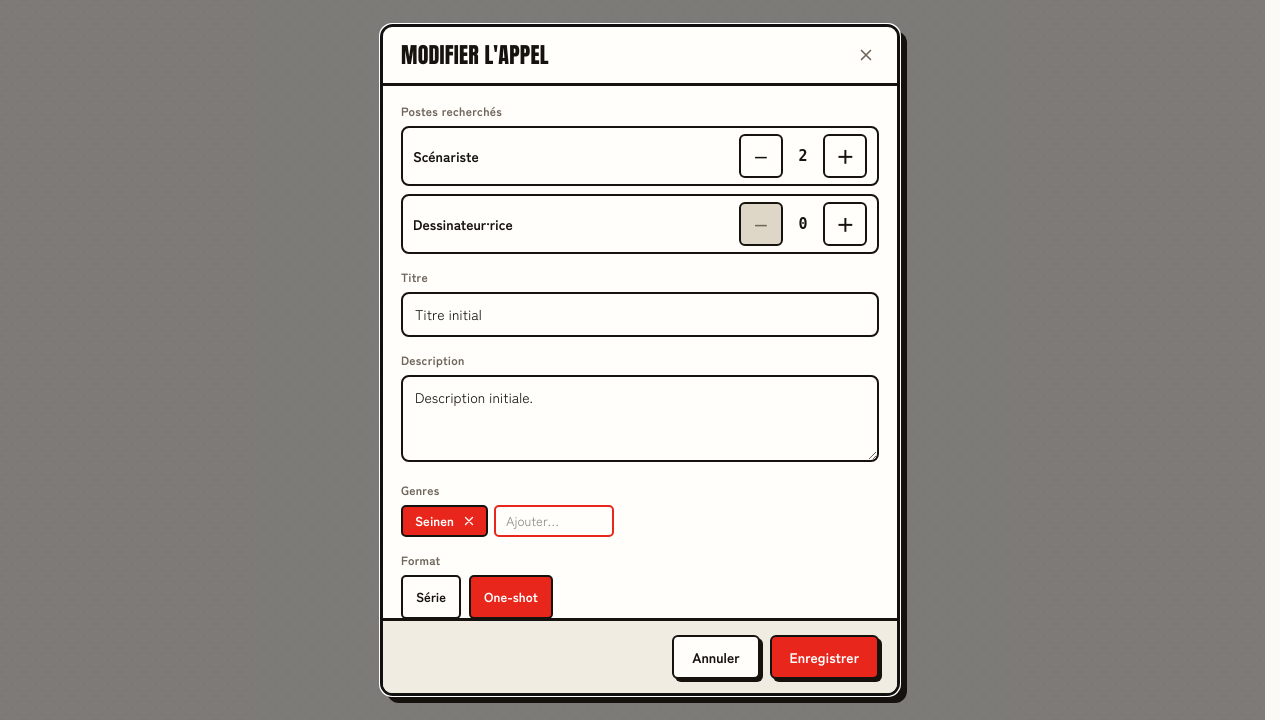
Scenario: PostCallModal › edit mode › cannot reduce a seat below its accepted floor
Click the button named "Retirer un poste Scénariste" at coordinates (761, 156), box [739,134,783,178]
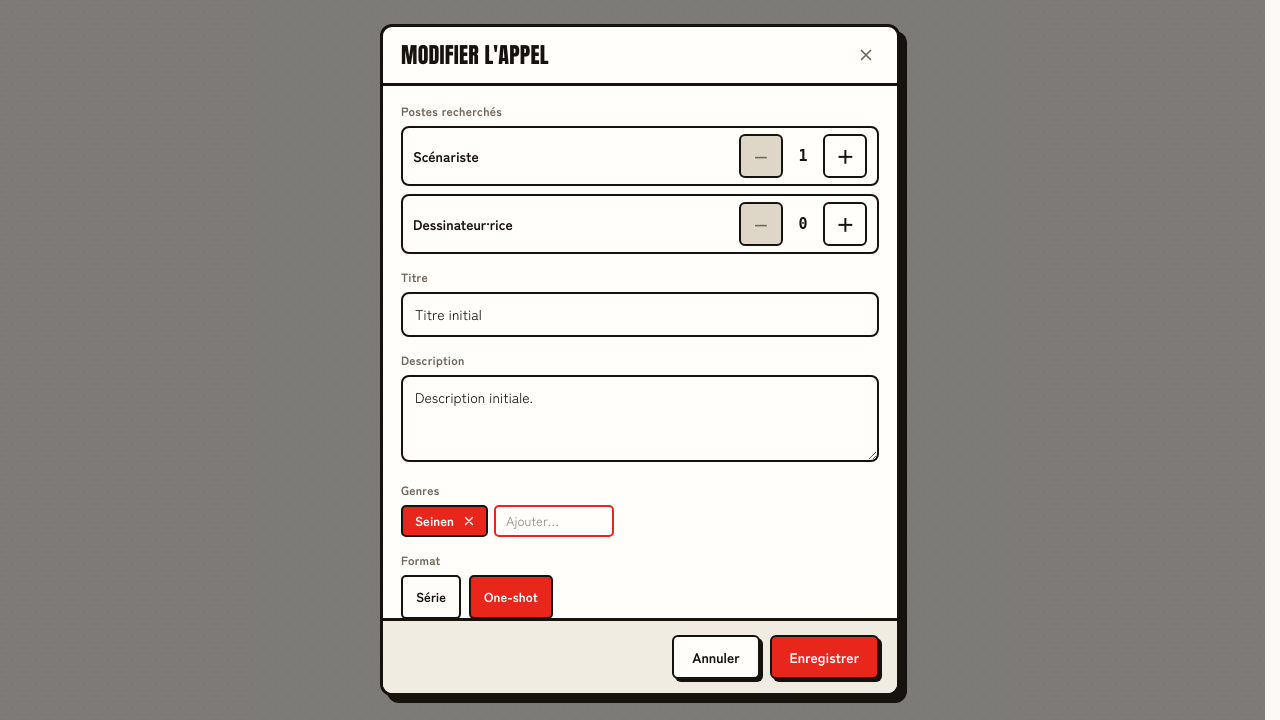
Now the button named "Retirer un poste Scénariste" is disabled, box [739,134,783,178]
